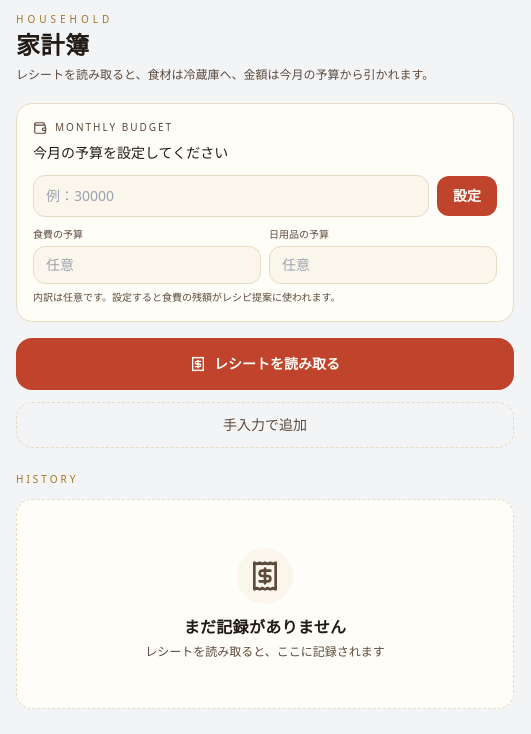
it: BudgetPageClient › saves the category allocations with the budget
Type "30000" into the field named "今月の予算". click: (231, 196)
box: [33,175,429,217]
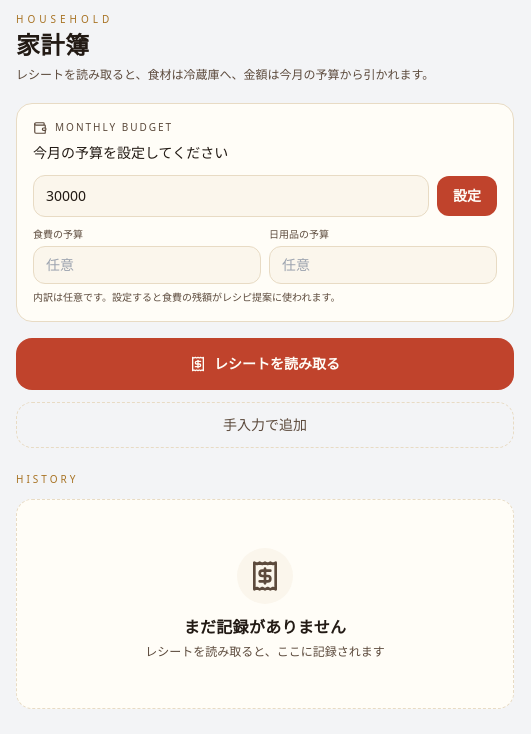
Type "20000" into the field labelled "食費の予算". click: (147, 265)
box: [33,246,261,284]
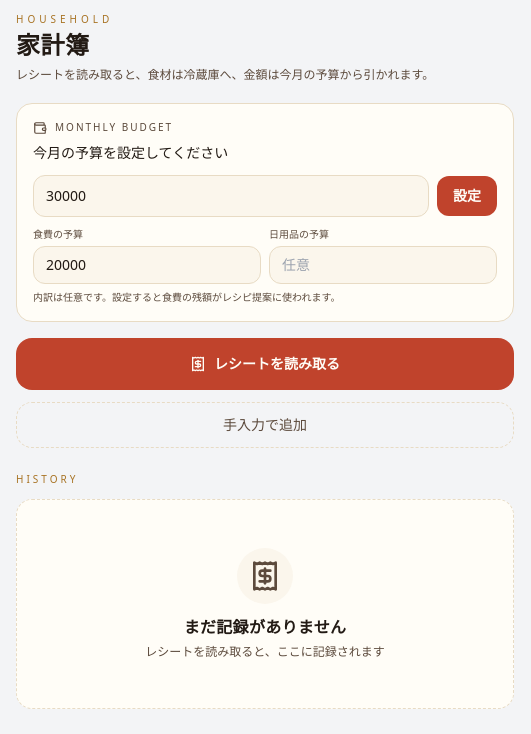
Type "5000" into the field labelled "日用品の予算". click: (383, 265)
box: [269,246,497,284]
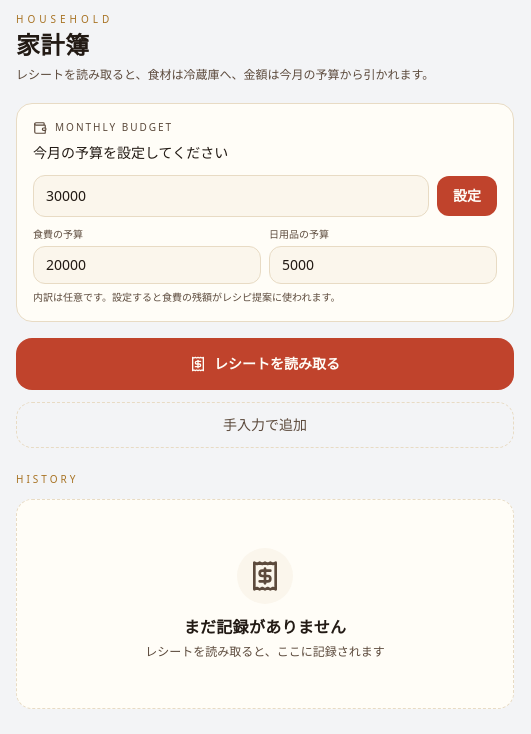
Click the button "設定". click: (467, 196)
box: [437,176,497,216]
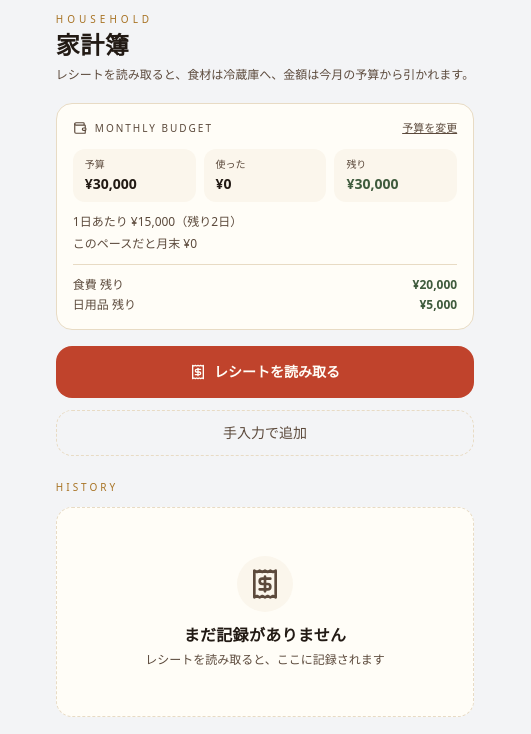
Result: the text "食費 残り" is shown at [73,276,124,292]
